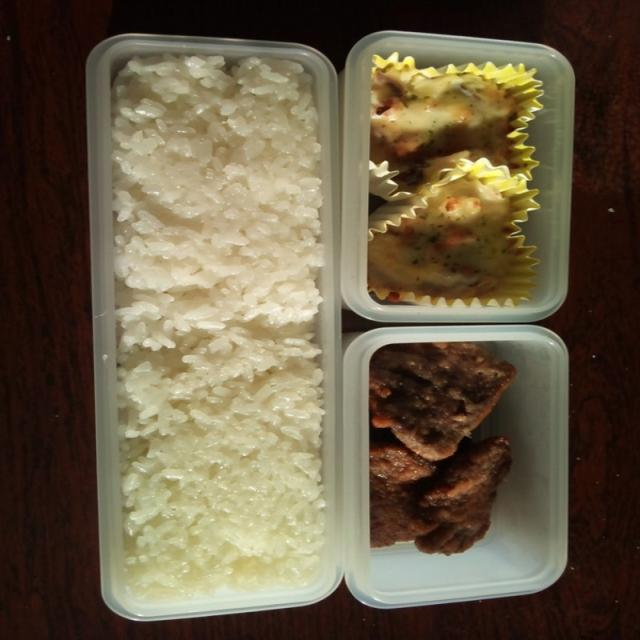米饭主食: (52, 229, 640, 421)
